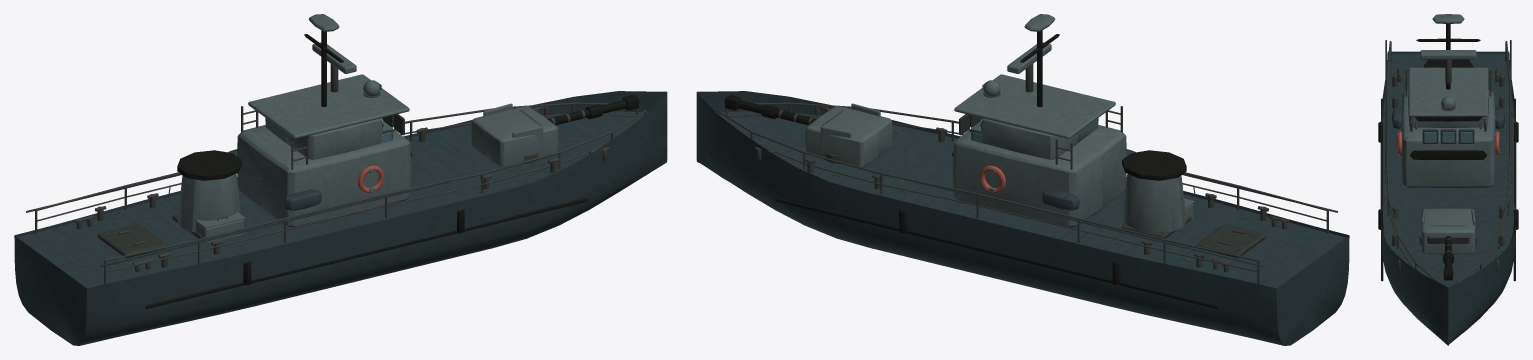
The model's file is ship_patrol.glb.
3 views of the same model, side by side, from view 1: azimuth 30°, elevation 25°; view 2: azimuth 150°, elevation 25°; view 3: azimuth 270°, elevation 25° (orthographic). The views are drawn at different scales.
Parts seen in each view (by area): view 1: part, Premium details - vehicles/ship_patrol, V2 field detail • vehicles/ship_patrol, part.001, part.002, V2 field detail • Node_4; view 2: part, Premium details - vehicles/ship_patrol, V2 field detail • vehicles/ship_patrol, part.001, part.002, V2 field detail • Node_4; view 3: part, Premium details - vehicles/ship_patrol, part.001, V2 field detail • vehicles/ship_patrol, part.002, V2 field detail • Node_4.
Boxes of the visible parts, <box> form: part: <box>14,14,667,345</box>; Premium details - vehicles/ship_patrol: <box>35,74,646,284</box>; V2 field detail • vehicles/ship_patrol: <box>74,42,609,308</box>; part.001: <box>471,106,558,167</box>; part.002: <box>547,95,639,125</box>; V2 field detail • Node_4: <box>483,103,543,148</box>; part: <box>696,14,1349,345</box>; Premium details - vehicles/ship_patrol: <box>717,74,1328,284</box>; V2 field detail • vehicles/ship_patrol: <box>754,42,1289,308</box>; part.001: <box>805,106,892,167</box>; part.002: <box>724,95,816,125</box>; V2 field detail • Node_4: <box>820,103,880,148</box>; part: <box>1380,14,1516,345</box>; Premium details - vehicles/ship_patrol: <box>1386,41,1510,283</box>; part.001: <box>1419,208,1477,254</box>; V2 field detail • vehicles/ship_patrol: <box>1378,50,1518,281</box>; part.002: <box>1443,236,1453,280</box>; V2 field detail • Node_4: <box>1421,209,1475,237</box>.
Size of the model in its own units: 16.49 by 6.22 by 3.88.
Materials: 9 (6 with a texture image).
